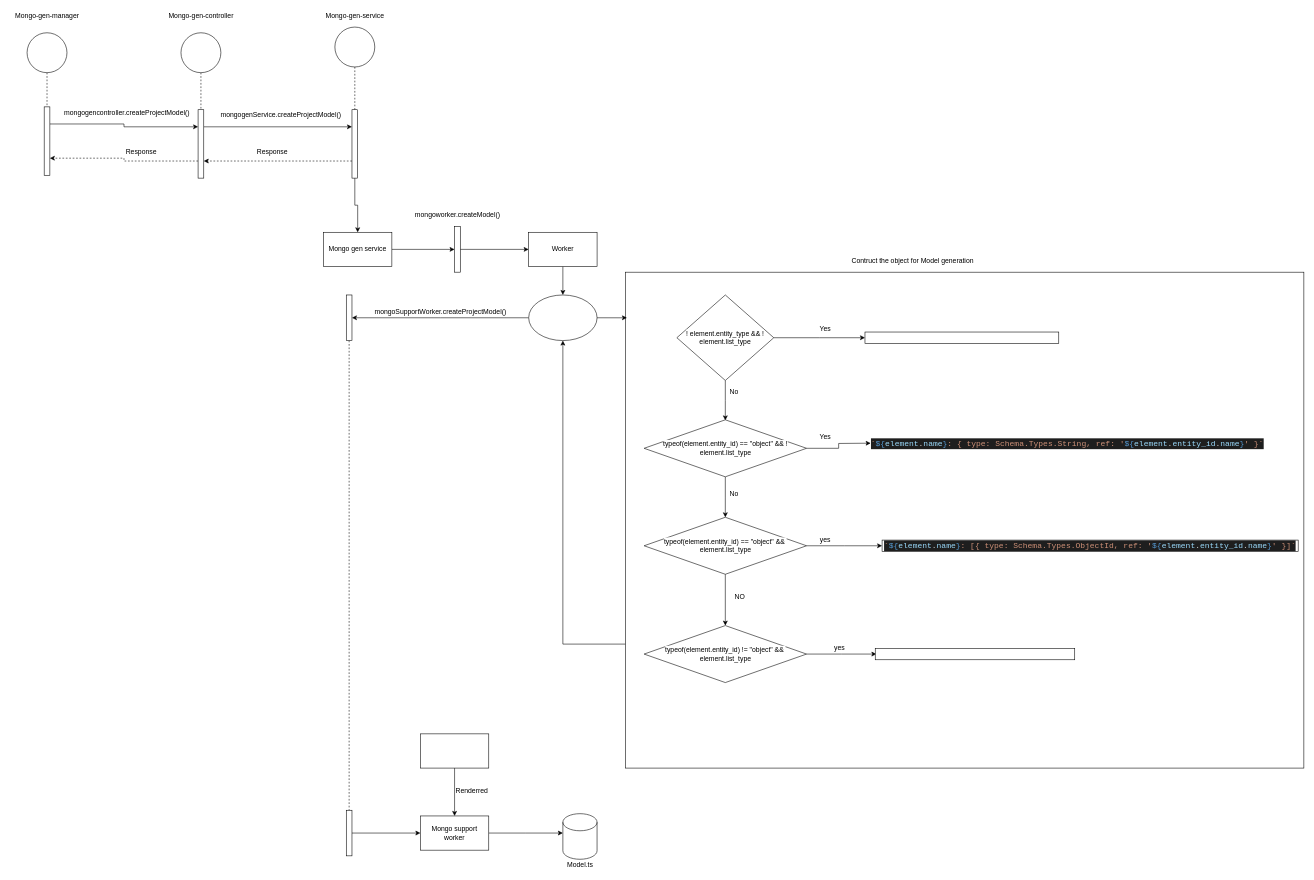
Image size: 1314x880. Some labels were removed from this diagram. The centre of each missing label's shape, as x and y in pixels:
"` ${ element . name } : ${ element . data_type } `" goes at point 961,337.
"` ${ element . name } : [ ${ element . data_type } ]`" goes at point 975,654.
"Field Object" goes at point 562,317.
"Mongo templates" goes at point 454,750.
